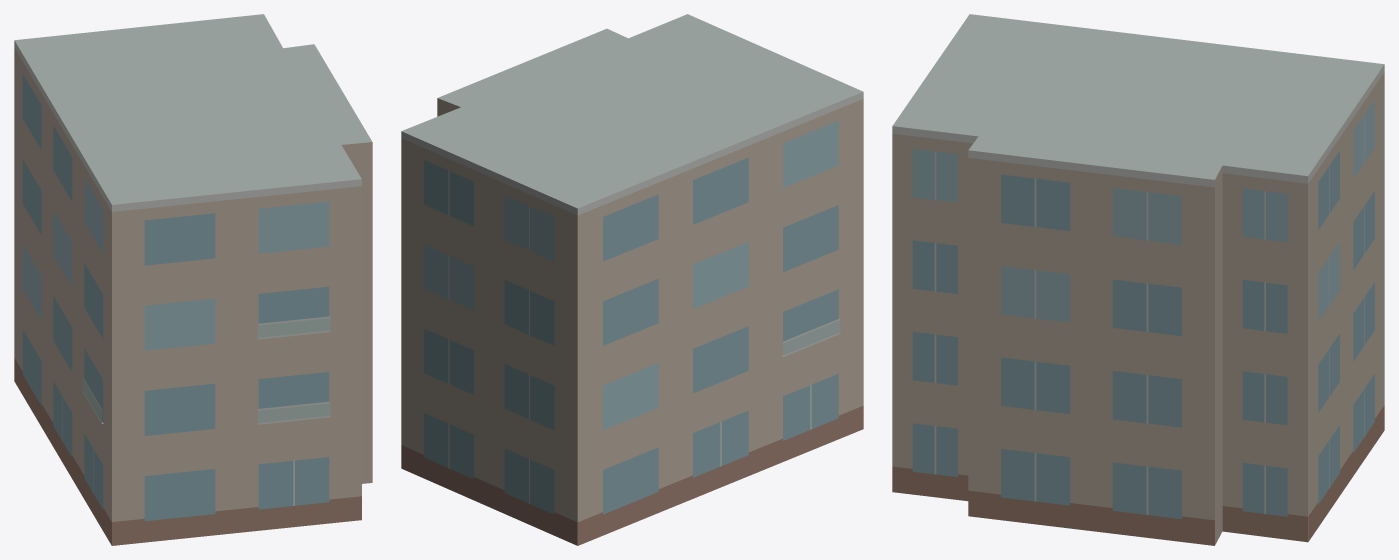
File: survey-upis-32880273.glb
3 views of the same model, side by side, from view 1: azimuth 30°, elevation 25°; view 2: azimuth 150°, elevation 25°; view 3: azimuth 270°, elevation 25° (orthographic). The views are drawn at different scales.
Parts seen in each view (by area): view 1: survey-upis-32880273.tmp; view 2: survey-upis-32880273.tmp; view 3: survey-upis-32880273.tmp.
Part boxes in pixels (x1,y1,x2,y2): survey-upis-32880273.tmp: [14, 14, 372, 545]; survey-upis-32880273.tmp: [401, 14, 863, 545]; survey-upis-32880273.tmp: [892, 14, 1384, 545].
Size of the model in its own units: 11.48 by 11.8 by 14.4.
